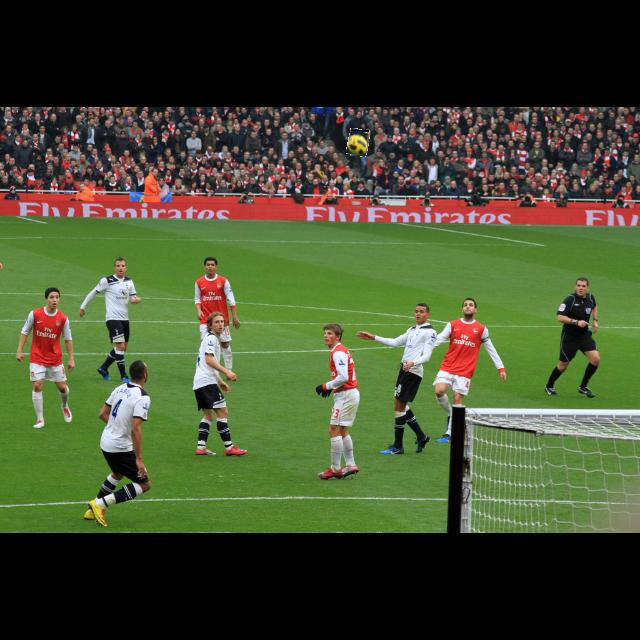Football: (347, 130, 369, 156)
